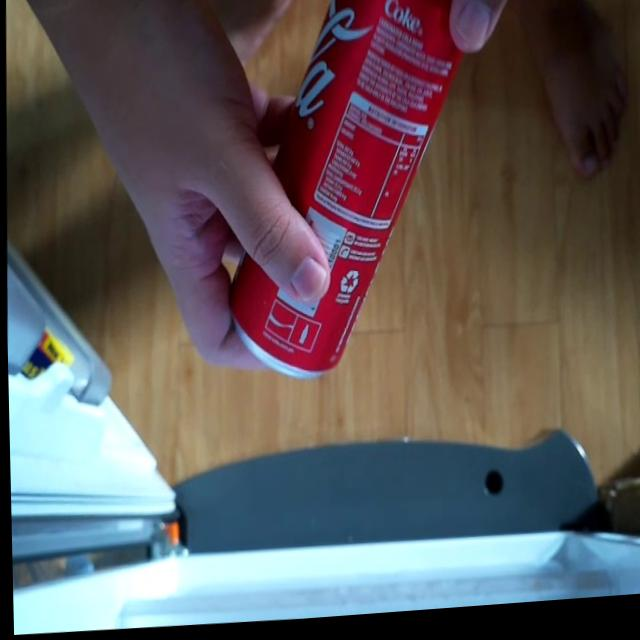coke: (215, 0, 497, 388)
